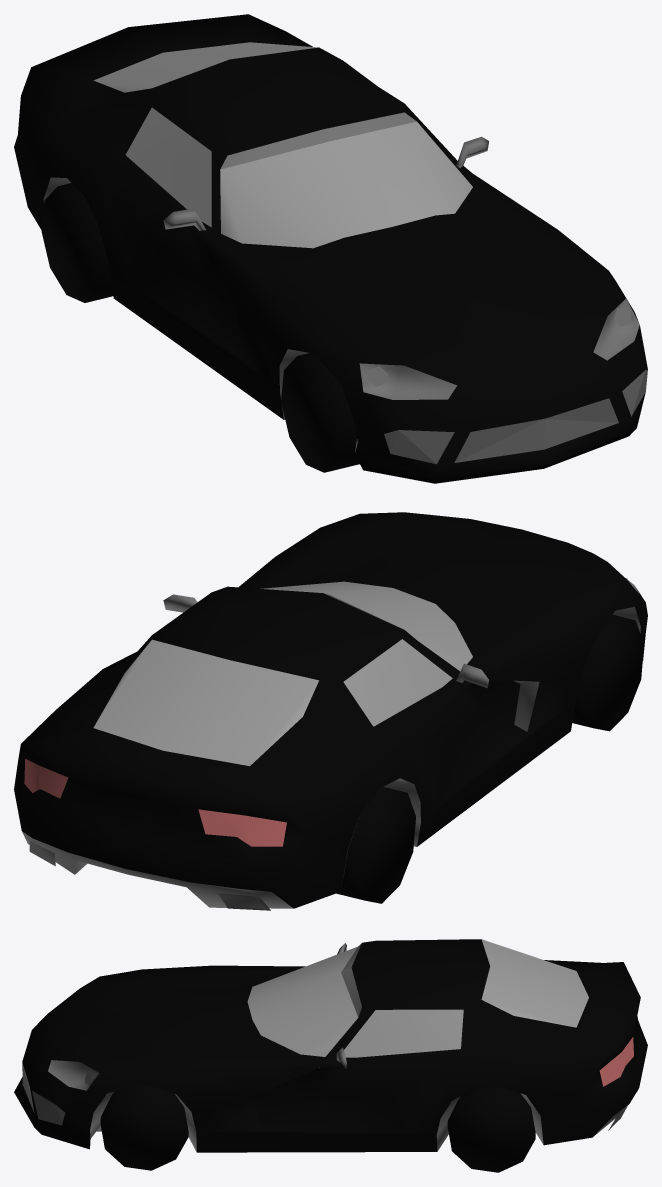
Rendered from Car_45_LOD2.FBX.
3 renders of one model, top to bottom at view 1: azimuth 30°, elevation 25°; view 2: azimuth 150°, elevation 25°; view 3: azimuth 270°, elevation 25°, orthographic. The views are drawn at different scales.
Visible parts, largest first — view 1: Body_45_LOD2, Glass_45_LOD2, Matte_45_LOD2, Wheel_R_LOD2, Wheel_Back_R_LOD2; view 2: Body_45_LOD2, Glass_45_LOD2, Matte_45_LOD2, Wheel_Back_R_LOD2, Wheel_R_LOD2, Taillights_45_LOD2; view 3: Body_45_LOD2, Glass_45_LOD2, Wheel_Back_L_LOD2, Wheel_L_LOD2, Matte_45_LOD2, Taillights_45_LOD2.
Boxes of the visible parts, x1,y1,x2,y2 form: Body_45_LOD2: [14, 14, 647, 483]; Glass_45_LOD2: [93, 42, 472, 248]; Matte_45_LOD2: [43, 112, 647, 464]; Wheel_R_LOD2: [281, 353, 359, 472]; Wheel_Back_R_LOD2: [41, 183, 113, 302]; Body_45_LOD2: [14, 512, 647, 908]; Glass_45_LOD2: [93, 581, 472, 766]; Matte_45_LOD2: [22, 578, 642, 910]; Wheel_Back_R_LOD2: [336, 787, 415, 903]; Wheel_R_LOD2: [572, 614, 643, 731]; Taillights_45_LOD2: [24, 759, 286, 846]; Body_45_LOD2: [14, 939, 647, 1152]; Glass_45_LOD2: [247, 939, 588, 1057]; Wheel_Back_L_LOD2: [447, 1086, 535, 1172]; Wheel_L_LOD2: [100, 1084, 188, 1170]; Matte_45_LOD2: [22, 943, 638, 1151]; Taillights_45_LOD2: [599, 1037, 633, 1086].
Size of the model in its own units: 1.98 by 1.19 by 4.48.
